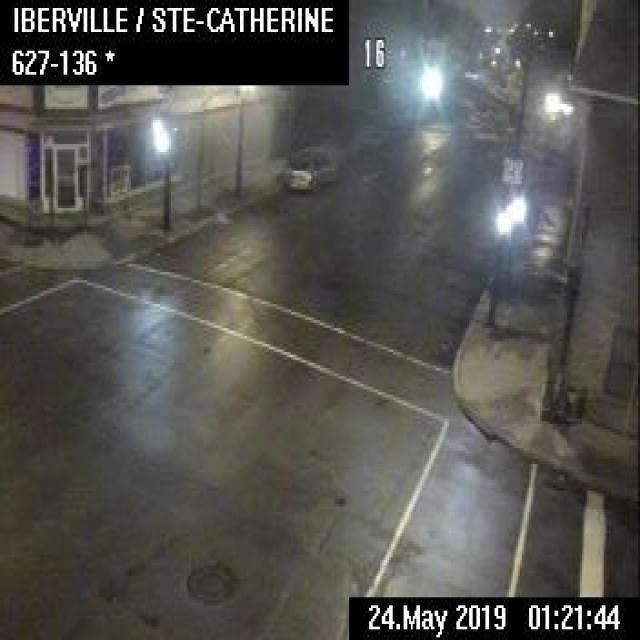vehicle: (280, 147, 338, 189)
